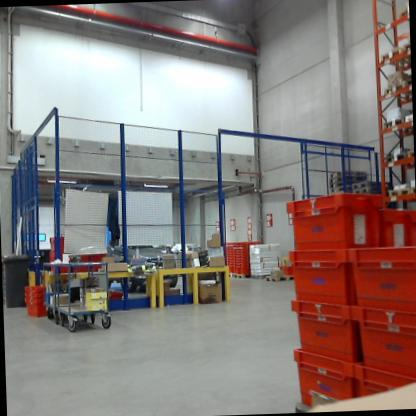pallet: (380, 44, 408, 72), (386, 79, 412, 105), (326, 166, 372, 179), (383, 116, 409, 137), (385, 149, 412, 169), (353, 179, 387, 193), (328, 172, 357, 186), (352, 187, 390, 197), (263, 272, 295, 283), (387, 184, 410, 199), (328, 179, 353, 192), (399, 1, 409, 23), (405, 111, 413, 136), (234, 271, 252, 282), (403, 36, 410, 57), (407, 149, 414, 165), (226, 272, 235, 280), (410, 186, 415, 199)
small_load_carrier: (283, 186, 384, 257), (291, 290, 359, 368), (357, 296, 416, 378), (292, 344, 361, 409), (355, 238, 416, 304), (291, 249, 356, 307), (354, 361, 416, 404), (381, 206, 416, 249), (25, 297, 49, 325), (46, 248, 70, 275), (276, 260, 291, 275), (238, 264, 253, 275), (233, 264, 239, 275), (226, 264, 233, 272)
